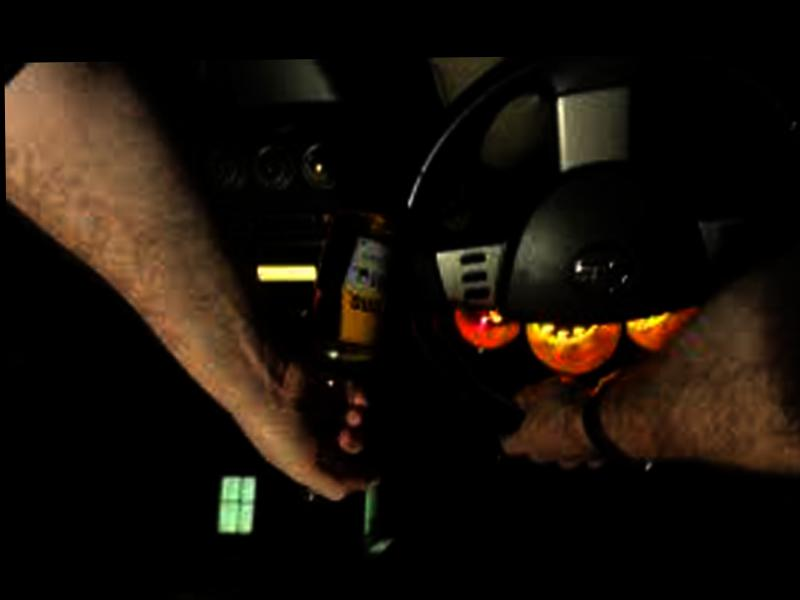Beer: (292, 212, 410, 501)
